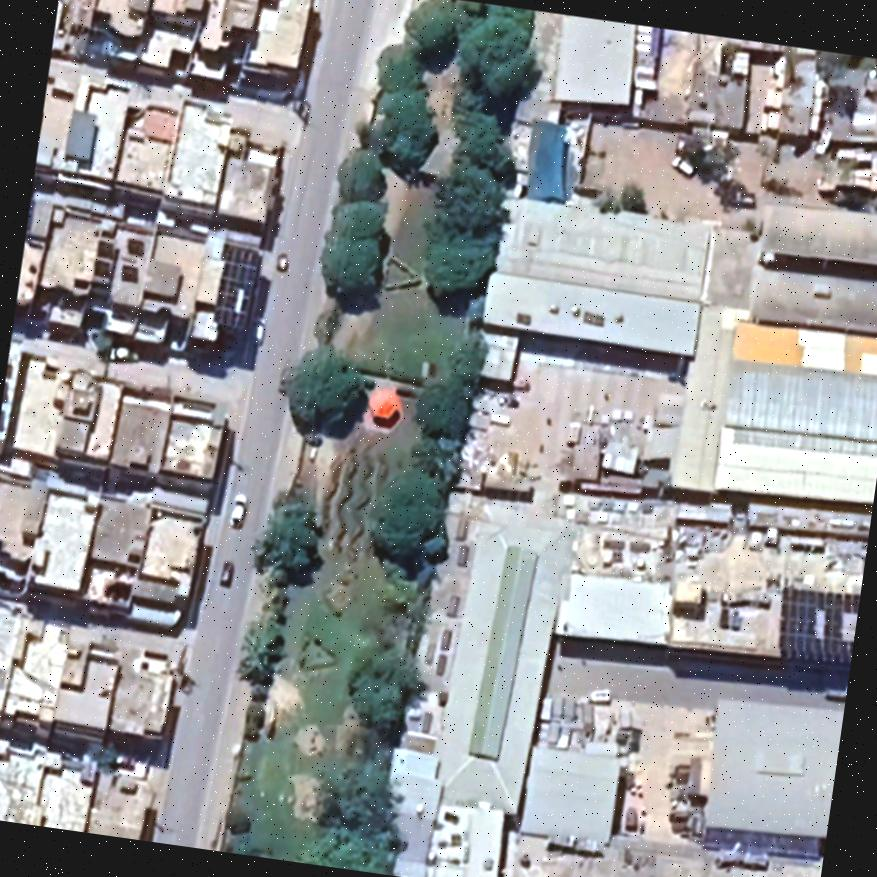Solarpanel: (771, 583, 861, 672), (205, 238, 261, 340)
